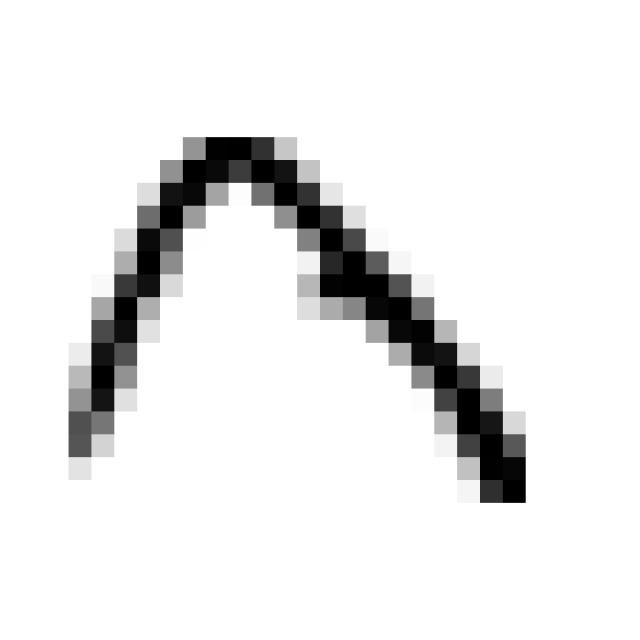8 -eight-: (43, 117, 546, 532)
